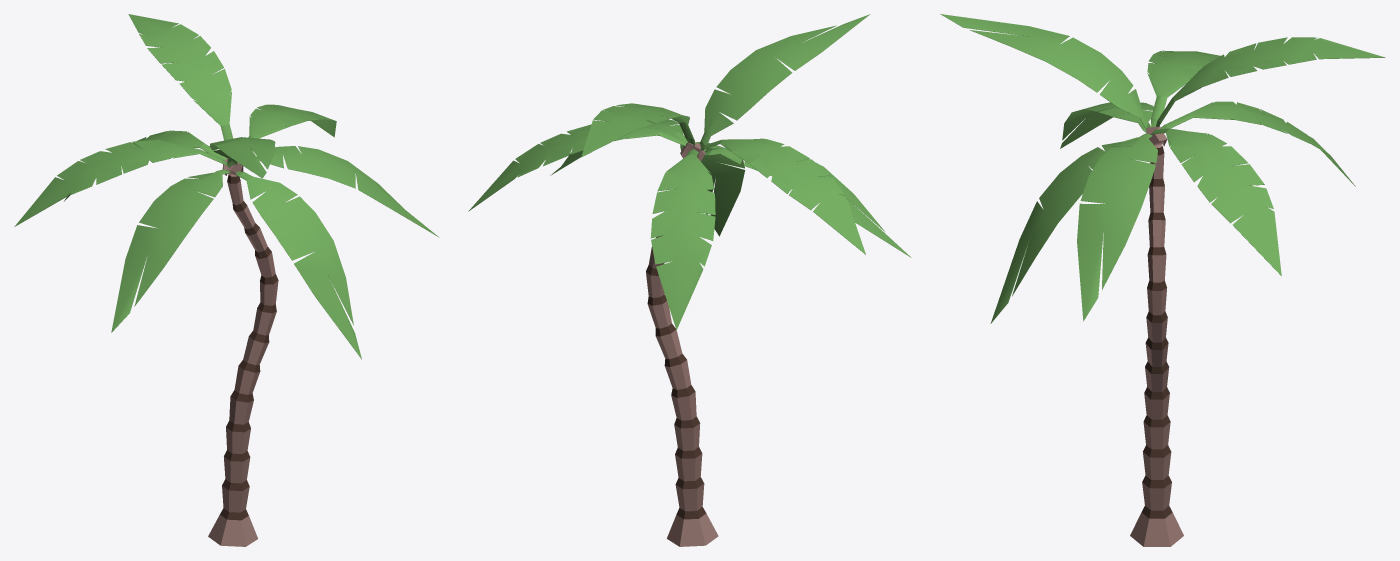
The model's file is PalmTreeTallTwisty.fbx.
The picture shows the model from 3 angles, left to right: view 1: azimuth 30°, elevation 25°; view 2: azimuth 150°, elevation 25°; view 3: azimuth 270°, elevation 25°; orthographic projection. The views are drawn at different scales.
Visible parts, largest first — view 1: PalmTreeTallTwisty; view 2: PalmTreeTallTwisty; view 3: PalmTreeTallTwisty.
Part boxes in pixels (box(x1,y1,x2,y2)): PalmTreeTallTwisty: box(14, 14, 439, 546); PalmTreeTallTwisty: box(468, 14, 911, 546); PalmTreeTallTwisty: box(940, 14, 1385, 546).
Bounding box in the file's own units: 583 × 695 × 572.
